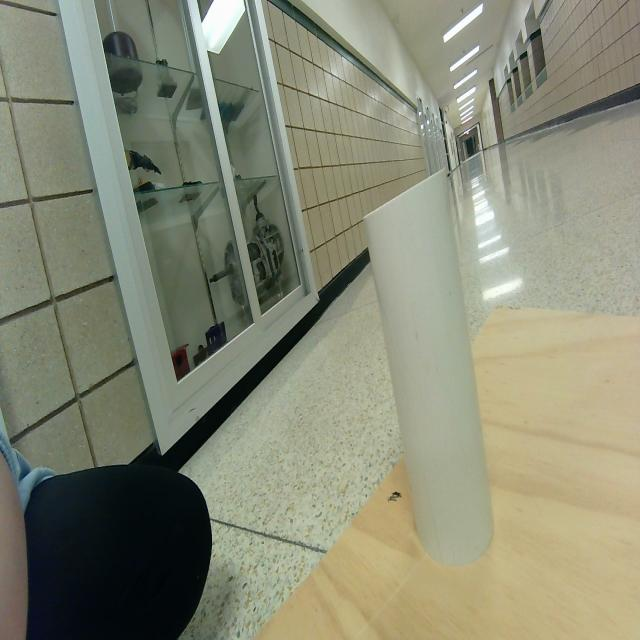coral: (364, 169, 492, 565)
